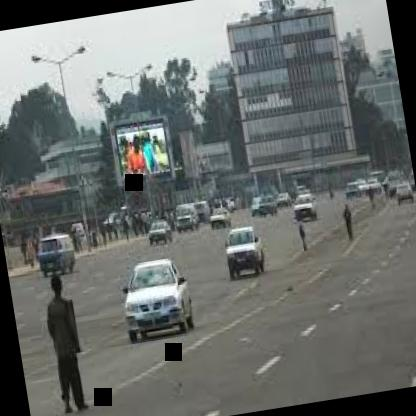car: (109, 244, 220, 360), (24, 217, 86, 281), (219, 217, 270, 286), (286, 186, 318, 230), (142, 212, 173, 250), (195, 206, 236, 234), (258, 188, 284, 230), (393, 183, 416, 214)
